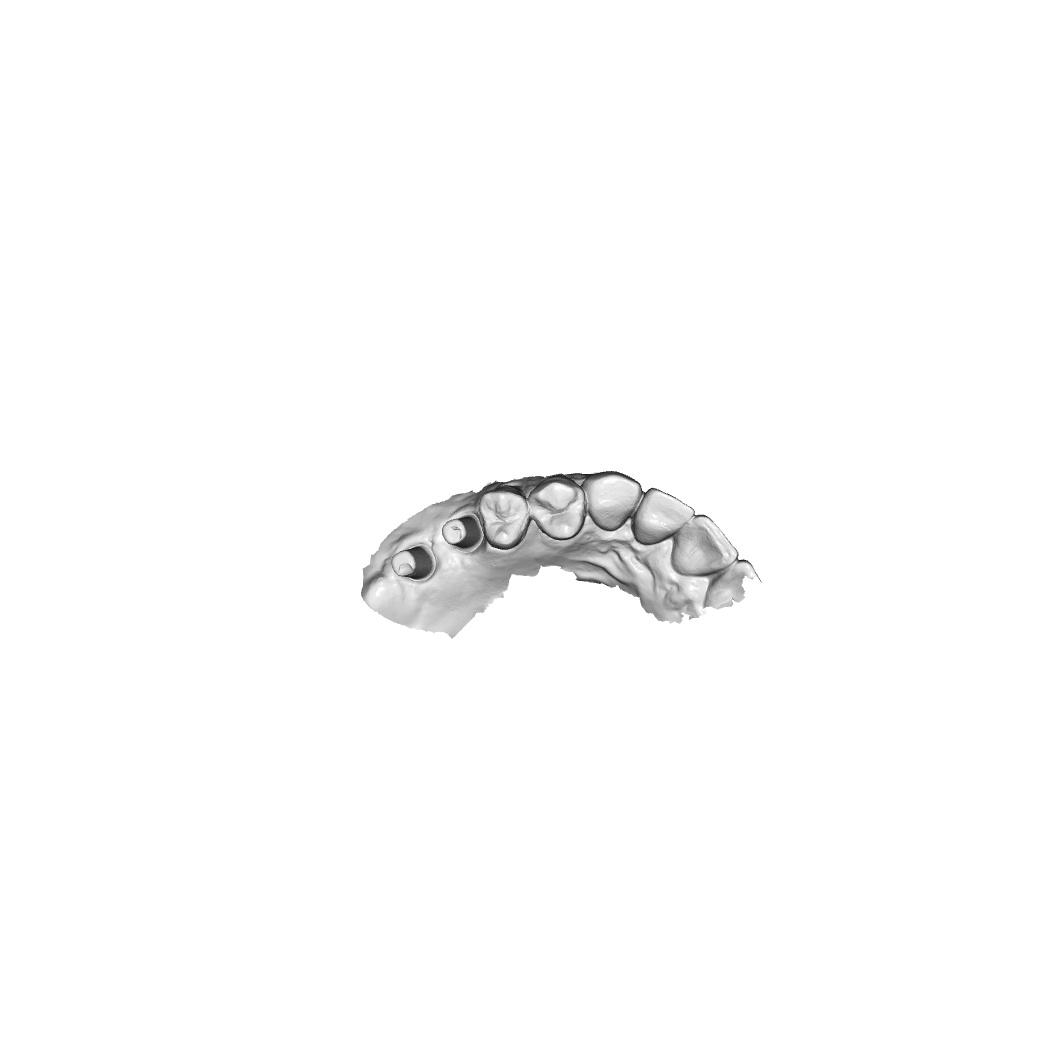abutment: (440, 511, 484, 555), (389, 543, 436, 583)
canine: (582, 470, 643, 533)
incisor: (669, 513, 739, 577), (630, 486, 696, 547), (703, 558, 760, 607)
premolar: (528, 474, 586, 541), (478, 485, 532, 552)
